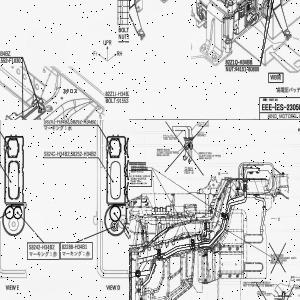PartNumber: (61, 243, 88, 251), (44, 150, 69, 158), (70, 150, 97, 157), (28, 244, 55, 251), (235, 66, 260, 73), (225, 59, 253, 65), (104, 90, 129, 96), (0, 57, 21, 63), (70, 120, 96, 124), (43, 120, 69, 123), (0, 50, 11, 56), (117, 98, 129, 103), (131, 177, 144, 180), (157, 148, 170, 151), (131, 165, 144, 168), (198, 152, 212, 154), (270, 254, 284, 256)
